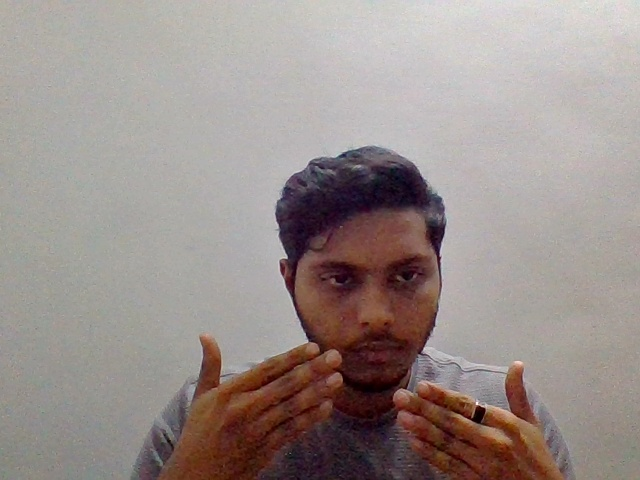Thanks: (161, 327, 573, 480)
